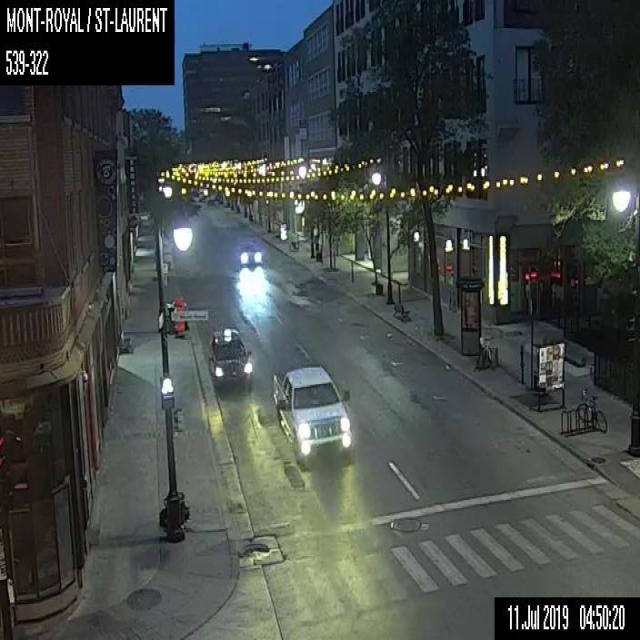construction: (175, 293, 185, 338)
vehicle: (271, 364, 353, 459), (208, 326, 252, 390), (240, 243, 262, 267)
